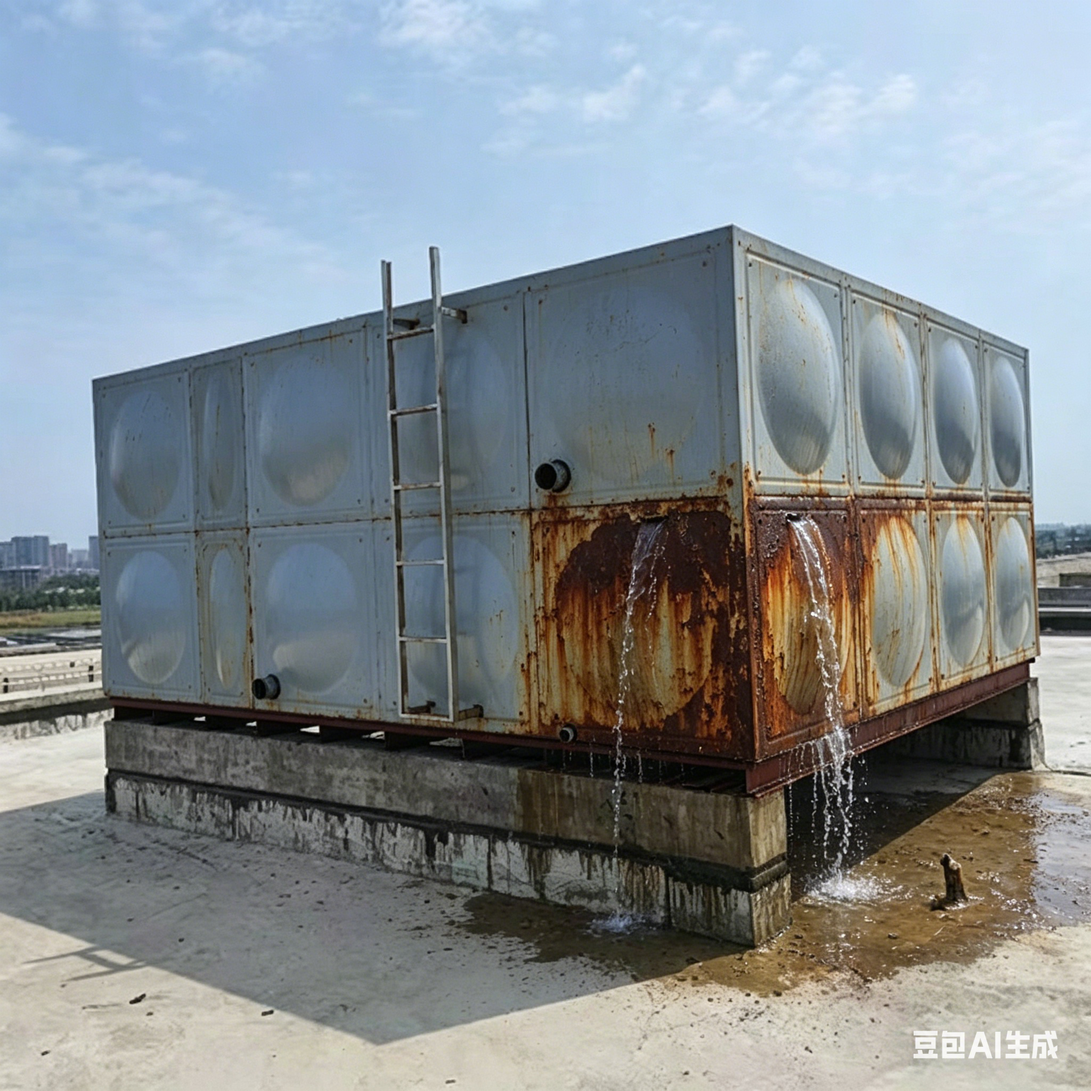Leakage: (792, 521, 886, 977), (600, 525, 684, 949), (902, 792, 1091, 951), (465, 872, 588, 947), (698, 925, 784, 999)
